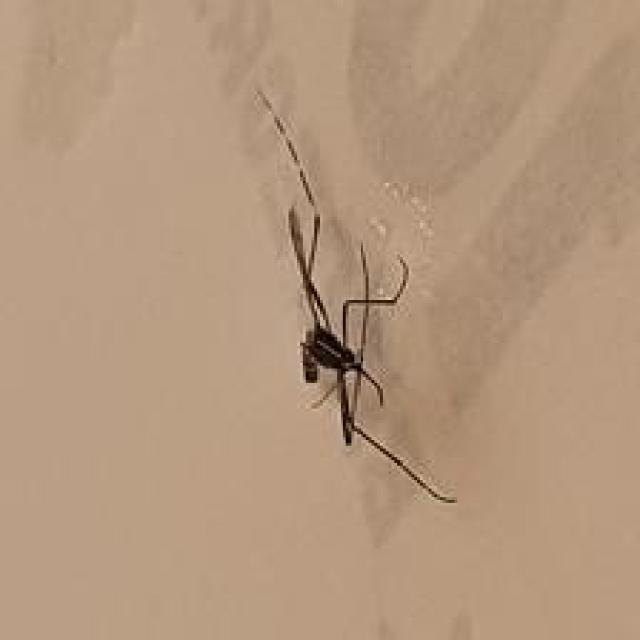Aedes albopictus: (253, 87, 458, 504)
